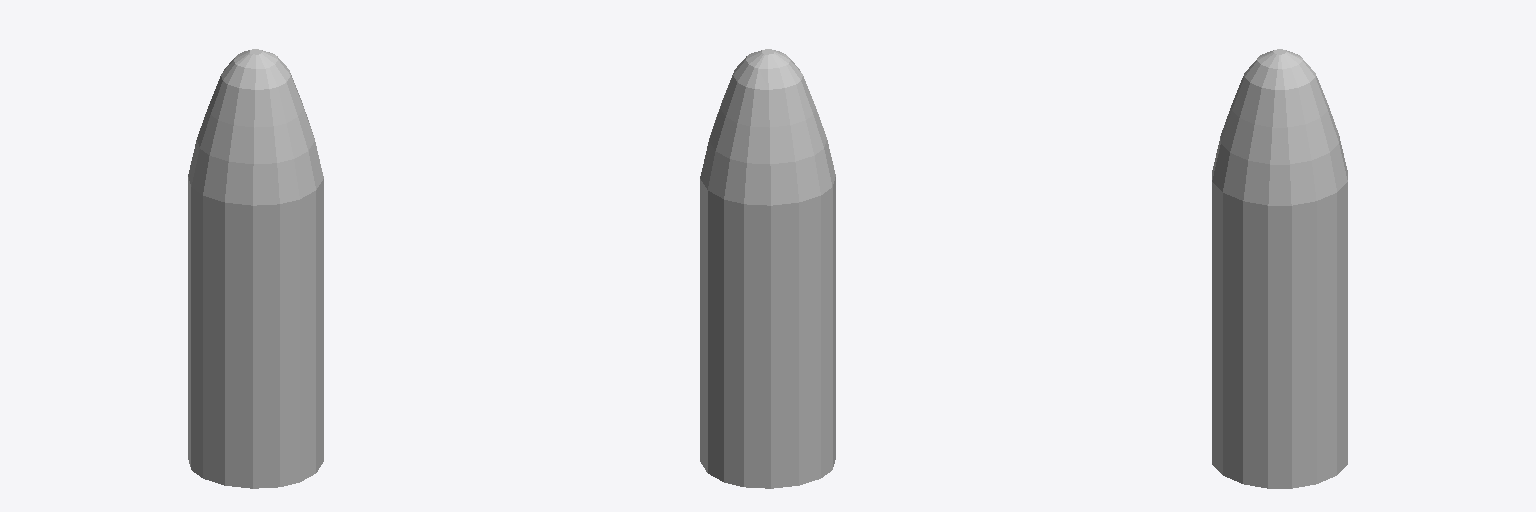
The model's file is Bullet01.obj.
3 renders of one model, left to right at view 1: azimuth 30°, elevation 25°; view 2: azimuth 150°, elevation 25°; view 3: azimuth 270°, elevation 25°, orthographic.
Visible parts, largest first — view 1: Bullet01; view 2: Bullet01; view 3: Bullet01.
Boxes of the visible parts, x1,y1,x2,y2 form: Bullet01: [188, 49, 323, 488]; Bullet01: [700, 49, 835, 488]; Bullet01: [1212, 49, 1347, 488].
Bounding box in the file's own units: 0.3017 × 1 × 0.3017.